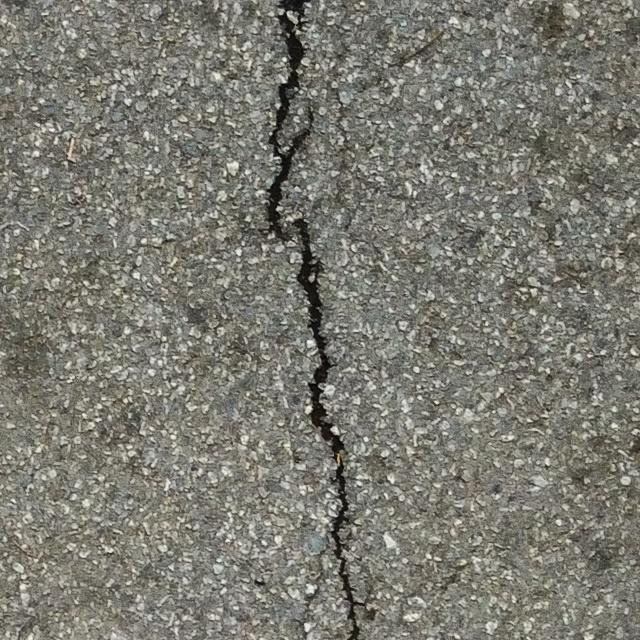LongitudinalCrack: (262, 1, 358, 640)
